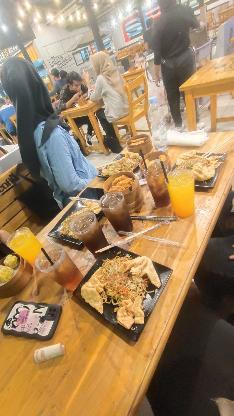Plastic Bottle: (148, 94, 176, 154)
